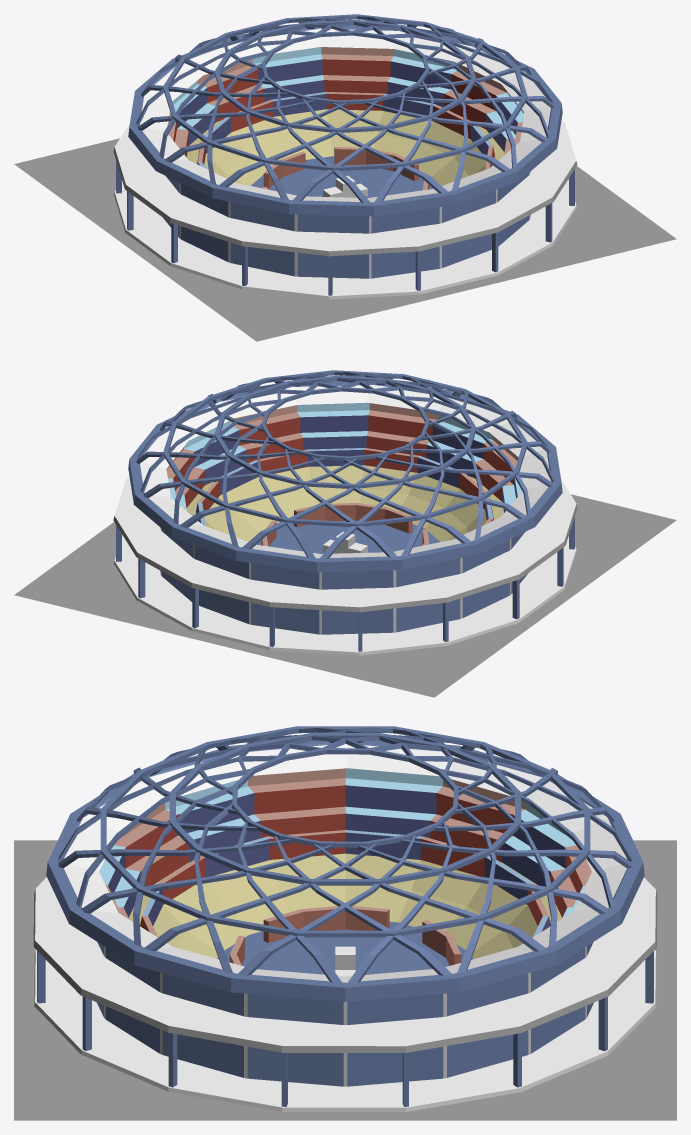
File: stadium_002.fbx
The picture shows the model from 3 angles, top to bottom: view 1: azimuth 30°, elevation 25°; view 2: azimuth 150°, elevation 25°; view 3: azimuth 270°, elevation 25°; orthographic projection. The views are drawn at different scales.
Visible parts, largest first — view 1: stadium_002; view 2: stadium_002; view 3: stadium_002.
Boxes of the visible parts, x1,y1,x2,y2 form: stadium_002: (14, 14, 676, 341); stadium_002: (14, 370, 676, 697); stadium_002: (14, 726, 676, 1120).
Size of the model in its own units: 1600 by 498 by 1600.
